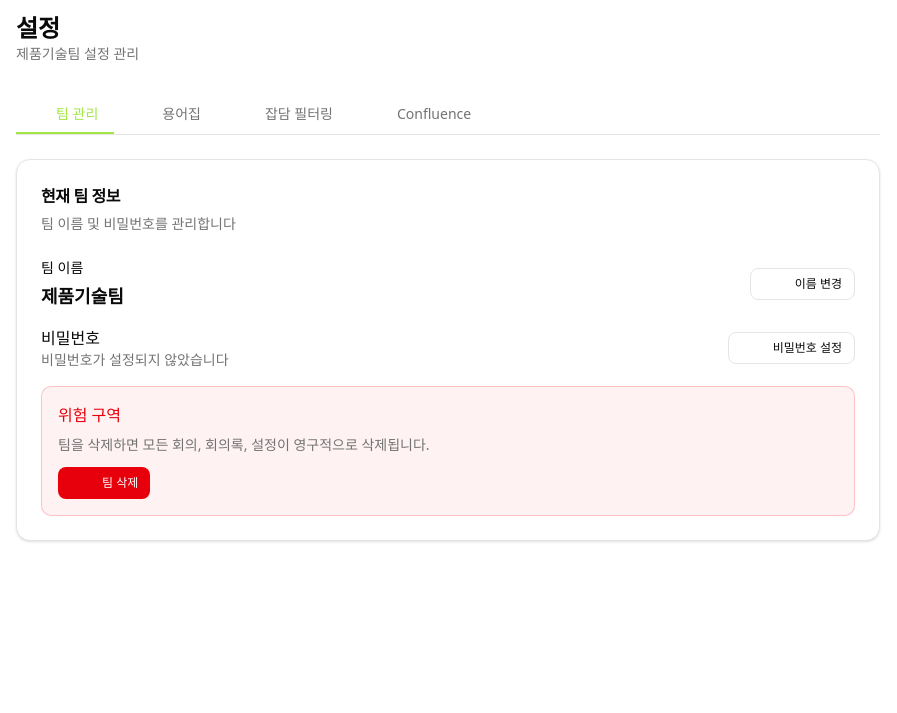
Test case: SettingsPage › Tab Navigation › switches back to vocabulary tab
Click the button "잡담 필터링" at (287, 115), box [225,96,349,134]
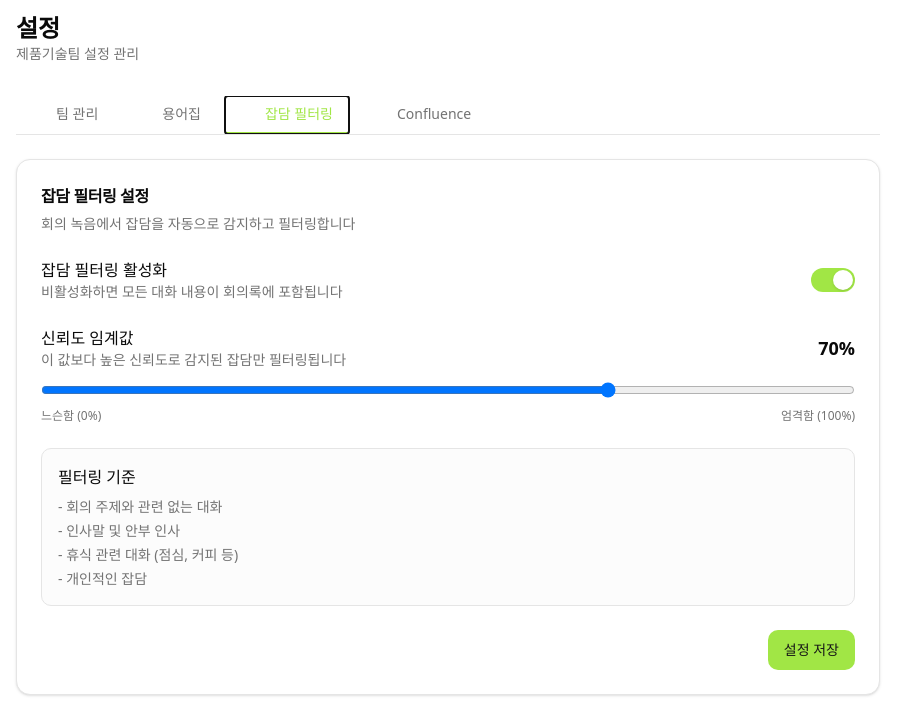
Click the button "용어집" at (170, 115), box [122,96,217,134]
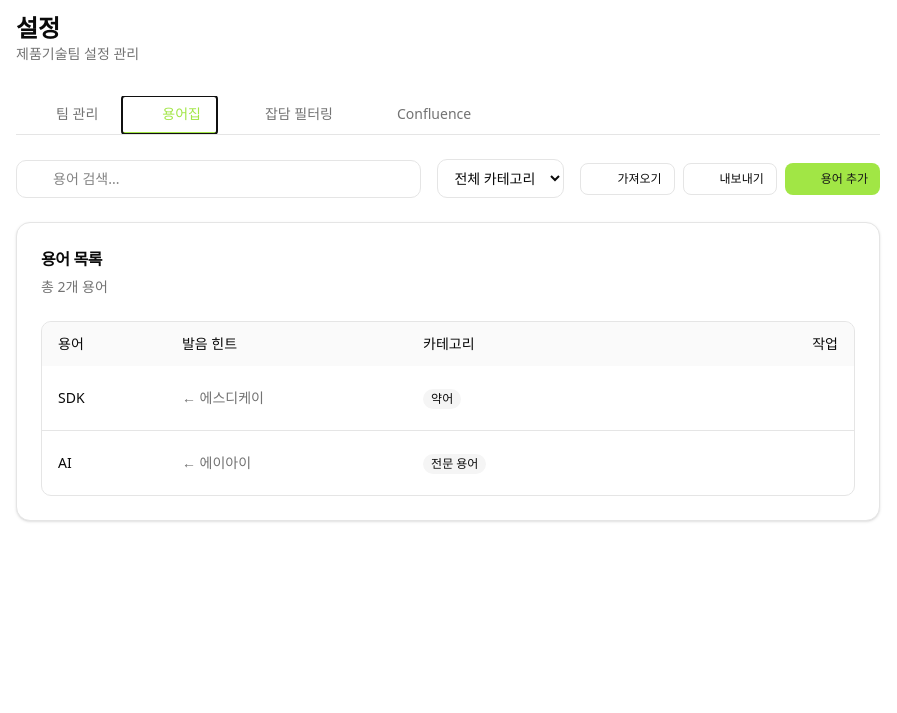
Now the heading "용어 목록" is shown, box [41,248,102,270]
